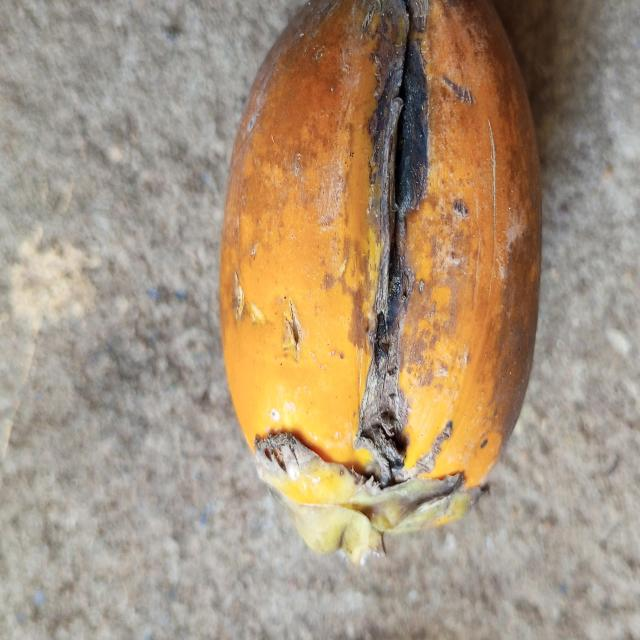damaged: (216, 0, 543, 564)
